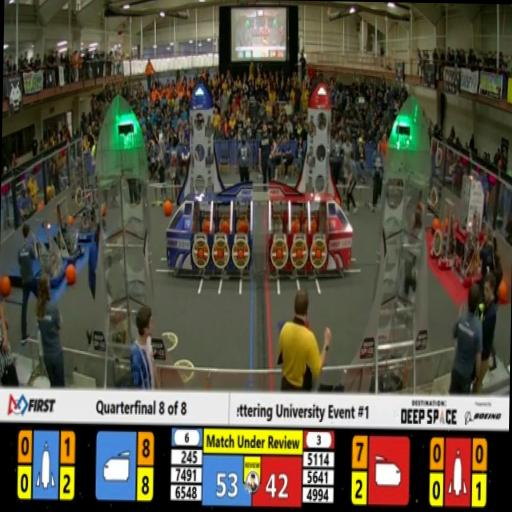robot: (48, 194, 86, 262), (454, 222, 491, 286), (430, 198, 460, 265), (36, 220, 69, 278), (457, 170, 485, 236), (77, 186, 102, 242)
